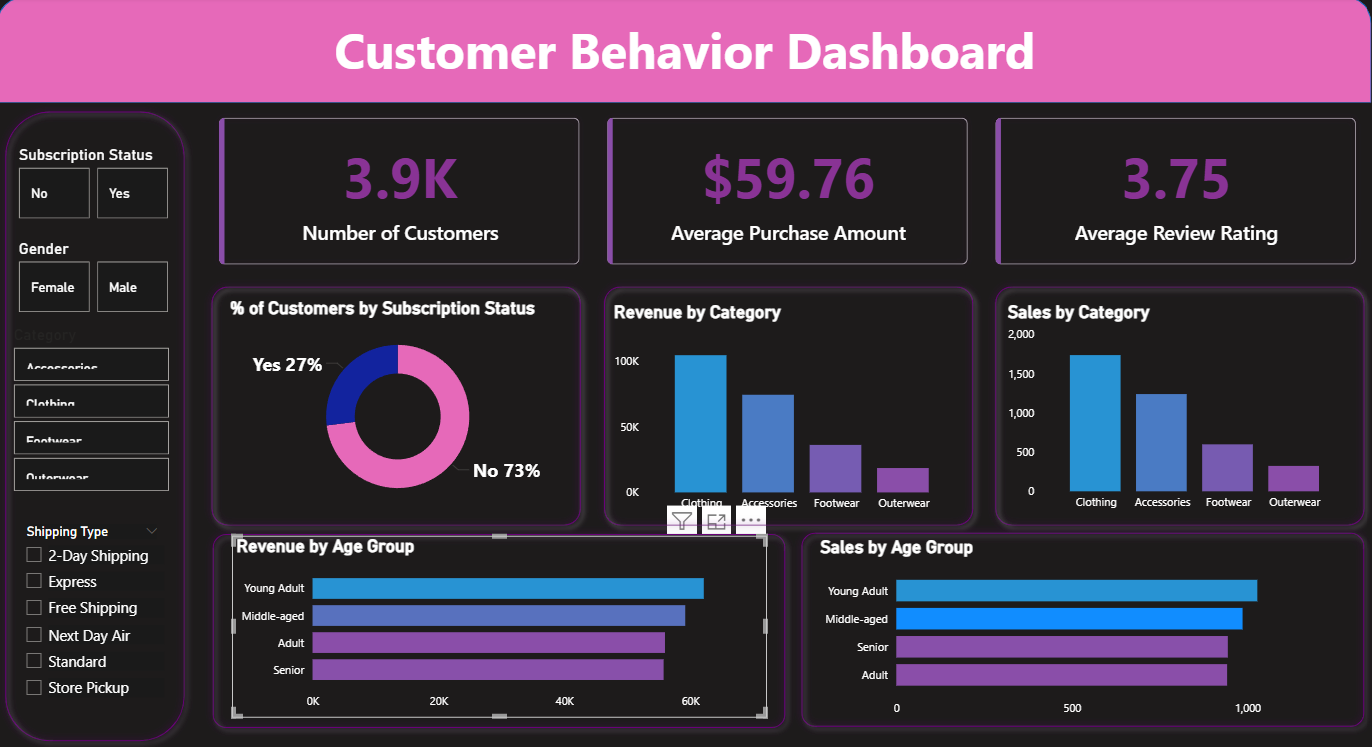

What the dashboard file says about the page in this screenshot:
{"tool":"powerbi","page":{"name":"Page 1","canvas":[1500,820],"ordinal":0},"visuals":[{"type":"shape","box":[0,115.6,213.4,704.4],"z":0},{"type":"shape","box":[225.9,576.3,642.1,229.5],"z":1000},{"type":"clusteredBarChart","title":"Revenue by Age Group","fields":{"Y":["Sum(public customer.purchase_amount)"],"Category":["public customer.age_group"]},"box":[256.1,587,583.4,199.2],"z":2000},{"type":"cardVisual","fields":{"Data":["public customer.Number of Customers","public customer.Average Purchase Amount","public customer.Average Review Rating"]},"box":[225.9,115.6,1273.6,192.1],"z":3000},{"type":"shape","box":[0,0,1499.4,115.3],"z":4000},{"type":"textbox","box":[0,16,1499.5,81.8],"z":5000},{"type":"shape","box":[225.4,307,420.5,278.6],"z":6000},{"type":"donutChart","title":"% of Customers by Subscription Status","fields":{"Category":["public customer.subscription_status"],"Y":["CountNonNull(public customer.customer_id)"]},"box":[249,329.1,375.3,236.6],"z":7000},{"type":"shape","box":[1078.9,307,420.5,278.6],"z":8000},{"type":"shape","box":[652.1,307,420.5,278.6],"z":9000},{"type":"clusteredColumnChart","title":"Revenue by Category","fields":{"Y":["Sum(public customer.purchase_amount)"],"Category":["public customer.category"]},"box":[667.2,331.8,385.1,237.8],"z":10000},{"type":"clusteredColumnChart","title":"Sales by Category","fields":{"Y":["CountNonNull(public customer.customer_id)"],"Category":["public customer.category"]},"box":[1097.5,332.6,380.7,236.6],"z":11000},{"type":"advancedSlicerVisual","fields":{"Values":["public customer.subscription_status"]},"box":[19.5,161.5,173.9,85.2],"z":12000},{"type":"advancedSlicerVisual","fields":{"Values":["public customer.gender"]},"box":[19.5,264.4,173.9,85.2],"z":13000},{"type":"advancedSlicerVisual","fields":{"Values":["public customer.category"]},"box":[14.2,358.4,179.2,186.3],"z":14000},{"type":"slicer","fields":{"Values":["public customer.shipping_type"]},"box":[19.5,569.6,168.6,220],"z":15000},{"type":"shape","box":[868,574.5,631.5,229.5],"z":16000},{"type":"clusteredBarChart","title":"Sales by Age Group","fields":{"Y":["CountNonNull(public customer.customer_id)"],"Category":["public customer.age_group"]},"box":[892.9,588.8,567.4,204.6],"z":17000}]}

Visuals, with their boxes in screenshot pixels (x1, y1, x2, y2), scaled from the page's 1500x820 canvas onto the 1372x747 screenshot:
shape: crop(0, 105, 195, 746)
shape: crop(207, 525, 794, 734)
"Revenue by Age Group" clusteredBarChart: crop(234, 535, 768, 716)
cardVisual - public customer.Number of Customers x public customer.Average Purchase Amount: crop(207, 105, 1371, 280)
shape: crop(0, 0, 1371, 105)
textbox: crop(0, 15, 1371, 89)
shape: crop(206, 280, 591, 533)
"% of Customers by Subscription Status" donutChart: crop(228, 300, 571, 515)
shape: crop(987, 280, 1371, 533)
shape: crop(596, 280, 981, 533)
"Revenue by Category" clusteredColumnChart: crop(610, 302, 963, 519)
"Sales by Category" clusteredColumnChart: crop(1004, 303, 1352, 519)
advancedSlicerVisual - public customer.subscription_status: crop(18, 147, 177, 225)
advancedSlicerVisual - public customer.gender: crop(18, 241, 177, 318)
advancedSlicerVisual - public customer.category: crop(13, 326, 177, 496)
slicer - public customer.shipping_type: crop(18, 519, 172, 719)
shape: crop(794, 523, 1371, 732)
"Sales by Age Group" clusteredBarChart: crop(817, 536, 1336, 723)
